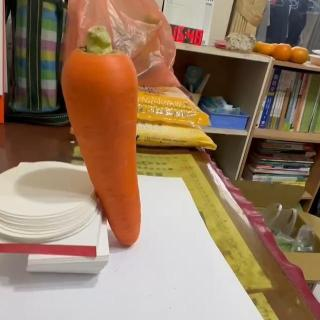carrot: (60, 27, 144, 249)
